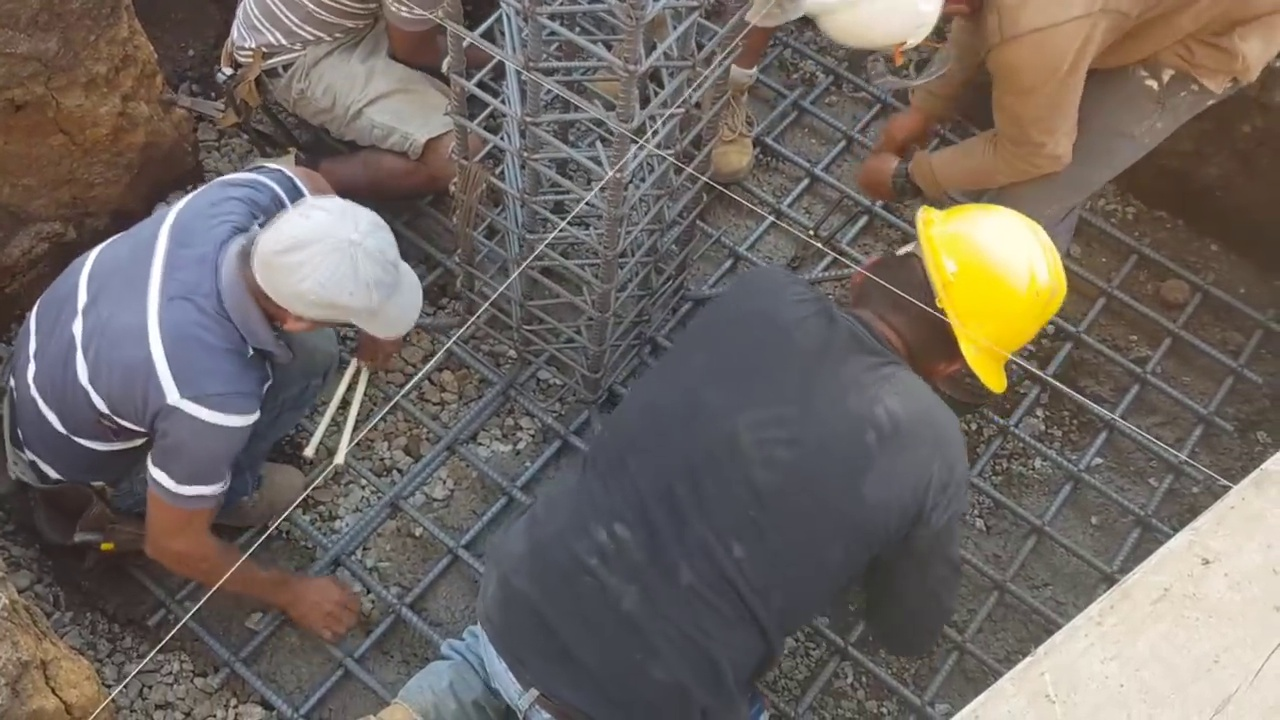helmet: (900, 201, 1056, 398), (811, 3, 939, 56)
helmet-off: (242, 205, 418, 368)
helmet-on: (826, 199, 1067, 395), (792, 0, 997, 60)
person: (361, 185, 1075, 720), (4, 170, 440, 607), (793, 2, 1279, 230), (211, 2, 512, 196)
